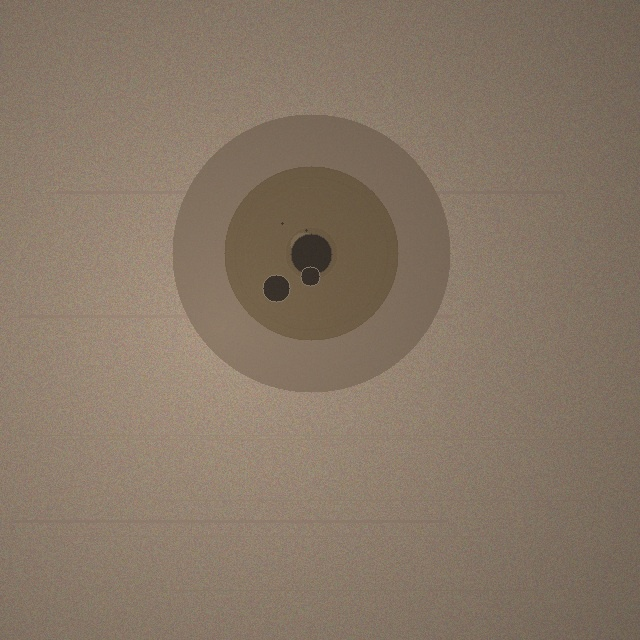shrinkage: (172, 114, 450, 392)
